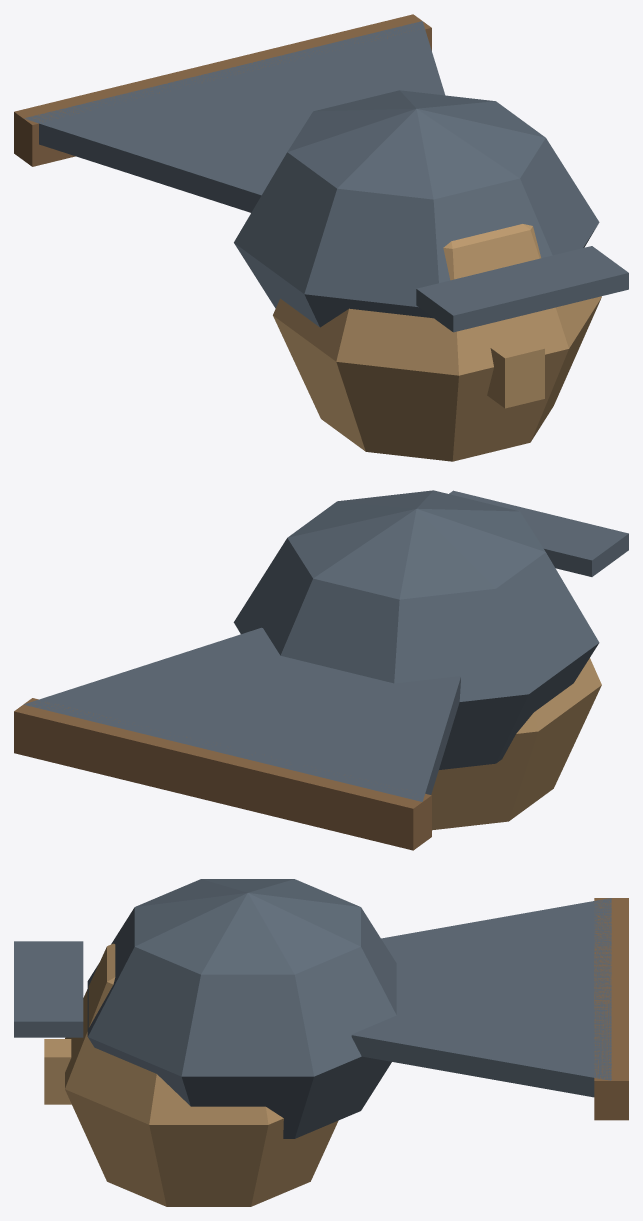
Rendered from villager-head-fantail.glb.
3 views of the same model, one above another, from view 1: azimuth 30°, elevation 25°; view 2: azimuth 150°, elevation 25°; view 3: azimuth 270°, elevation 25° (orthographic). The views are drawn at different scales.
Parts seen in each view (by area): view 1: head; view 2: head; view 3: head.
Boxes of the visible parts, x1,y1,x2,y2 form: head: [14, 14, 628, 461]; head: [14, 490, 628, 850]; head: [14, 879, 628, 1206].
Size of the model in its own units: 1 by 0.796 by 1.42.
Materials: 1 (1 with a texture image).
